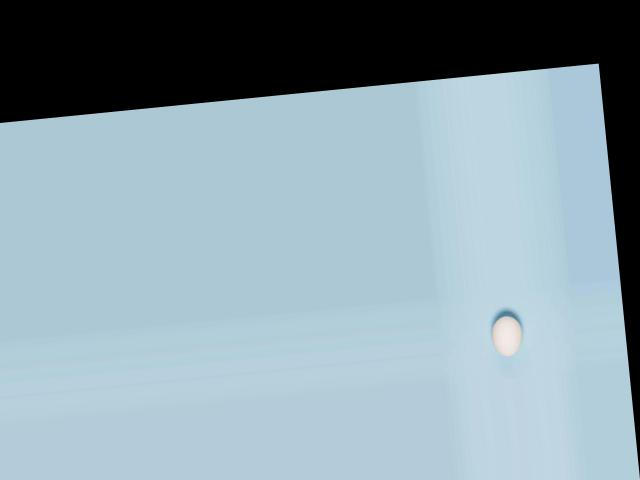egg: (490, 314, 524, 357)
